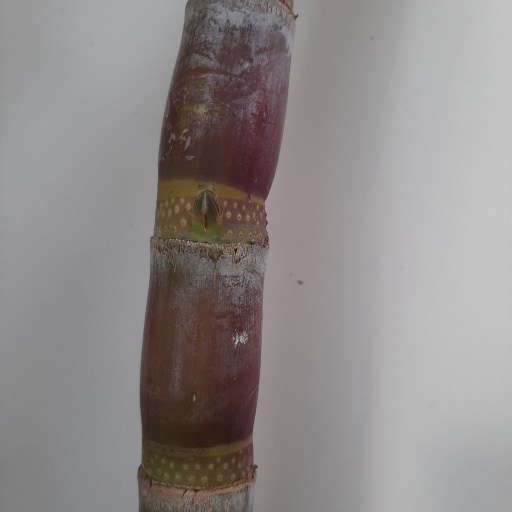Bud: (192, 189, 221, 230)
